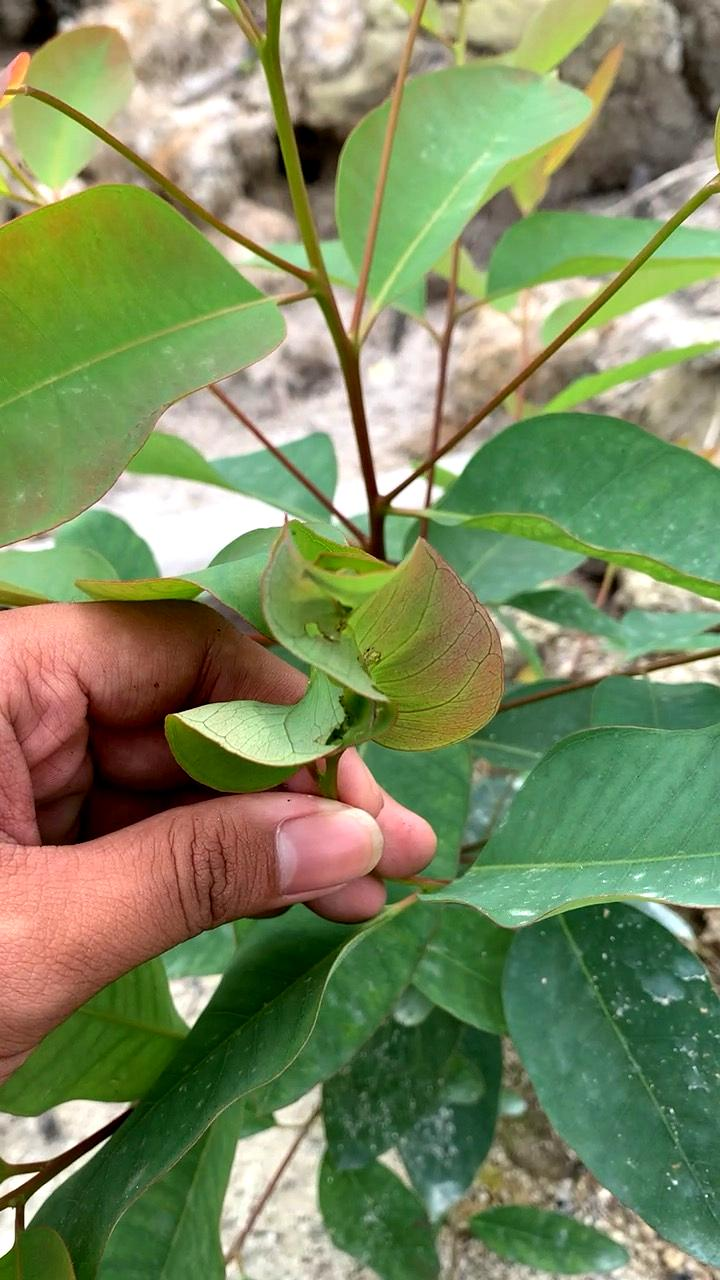Leaf Roller - Leaf: (137, 513, 530, 918)
